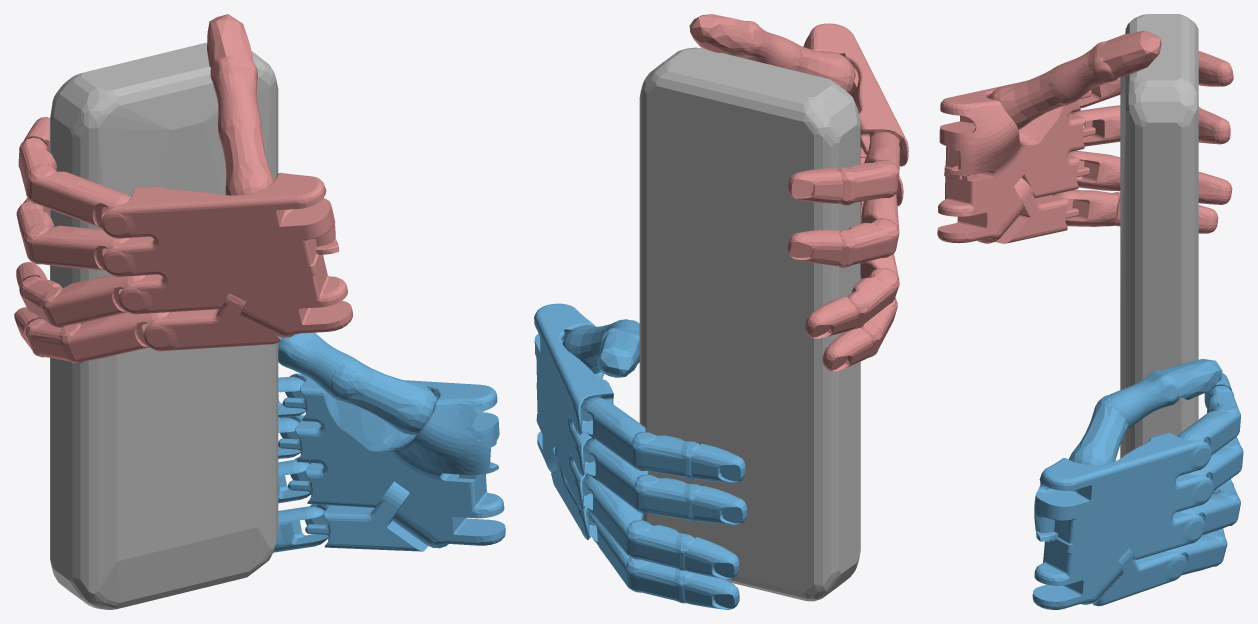
The model's file is CellPhone_mesh.glb.
The picture shows the model from 3 angles, left to right: view 1: azimuth 30°, elevation 25°; view 2: azimuth 150°, elevation 25°; view 3: azimuth 270°, elevation 25°; orthographic projection. The views are drawn at different scales.
Parts seen in each view (by area): view 1: geom_0, geom_2, geom_1; view 2: geom_0, geom_1, geom_2; view 3: geom_1, geom_2, geom_0.
Part boxes in pixels (left/top/right/bottom): geom_0: left=50, top=42, right=278, bottom=609; geom_2: left=14, top=14, right=352, bottom=363; geom_1: left=273, top=332, right=505, bottom=552; geom_0: left=639, top=47, right=860, bottom=601; geom_1: left=534, top=303, right=747, bottom=609; geom_2: left=689, top=14, right=908, bottom=371; geom_1: left=1032, top=359, right=1243, bottom=609; geom_2: left=937, top=30, right=1233, bottom=243; geom_0: left=1120, top=14, right=1198, bottom=458.
Bounding box in the file's own units: 0.241 × 0.3145 × 0.1682.
